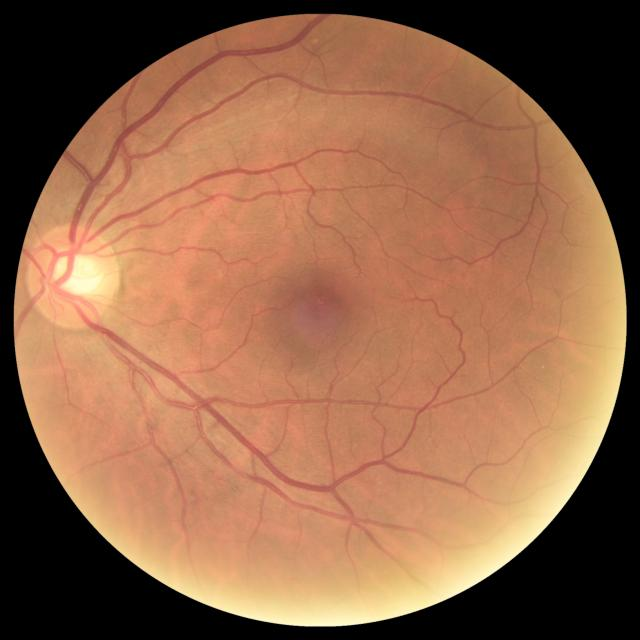OC: (52, 248, 102, 299)
OD: (24, 224, 120, 330)
